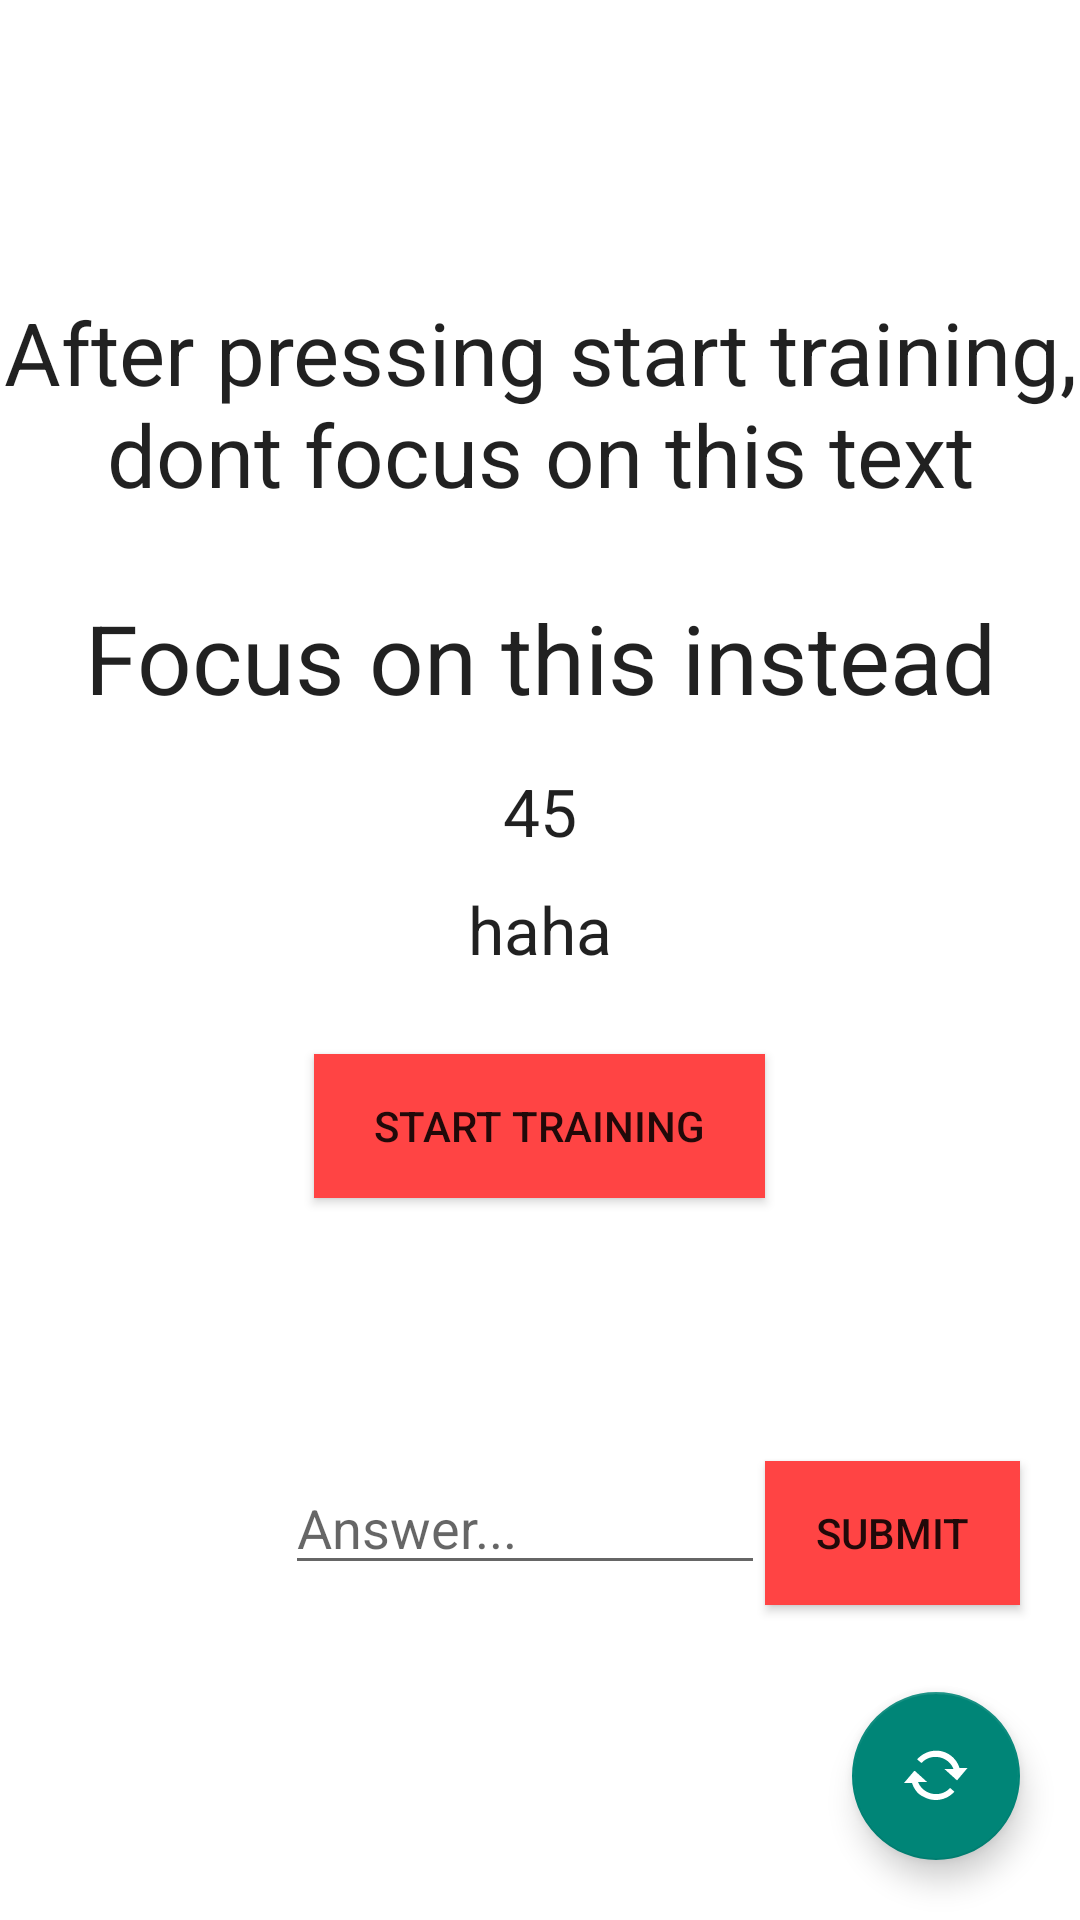

Locate icon controls on the screen. Image size 1080x1920, boxes as (x1, y1, x2, y2).
sync noanim: (852, 1692, 1020, 1860)
